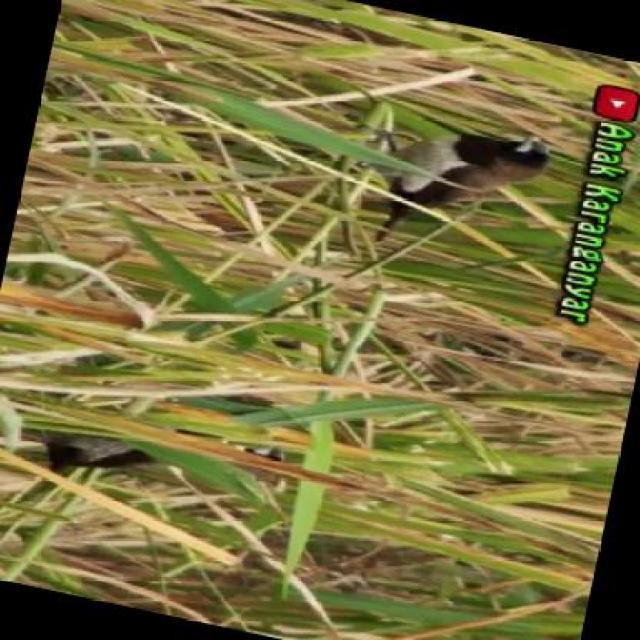Bird: (373, 106, 553, 246)
